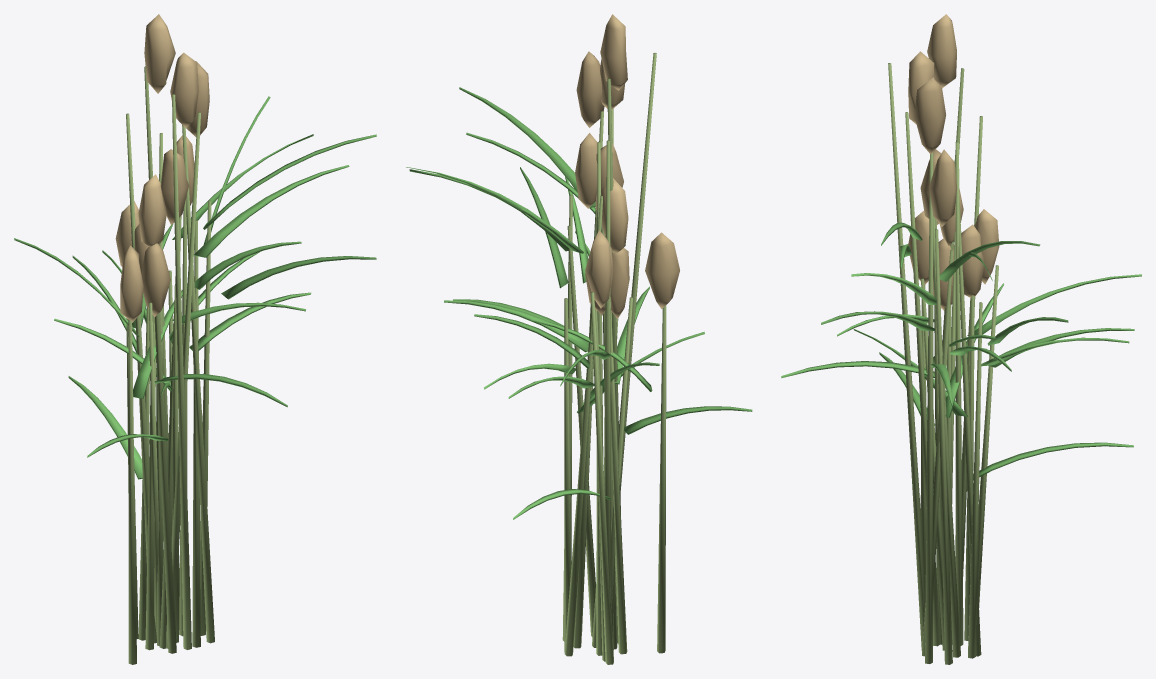
Rendered from reed_1.glb.
3 views of the same model, side by side, from view 1: azimuth 30°, elevation 25°; view 2: azimuth 150°, elevation 25°; view 3: azimuth 270°, elevation 25° (orthographic).
Parts seen in each view (by area): view 1: reed; view 2: reed; view 3: reed.
Boxes of the visible parts, bbox=[...] form: reed: bbox=[14, 14, 376, 664]; reed: bbox=[406, 14, 752, 664]; reed: bbox=[781, 14, 1141, 664].
Size of the model in its own units: 0.8241 by 1.71 by 0.8922.
